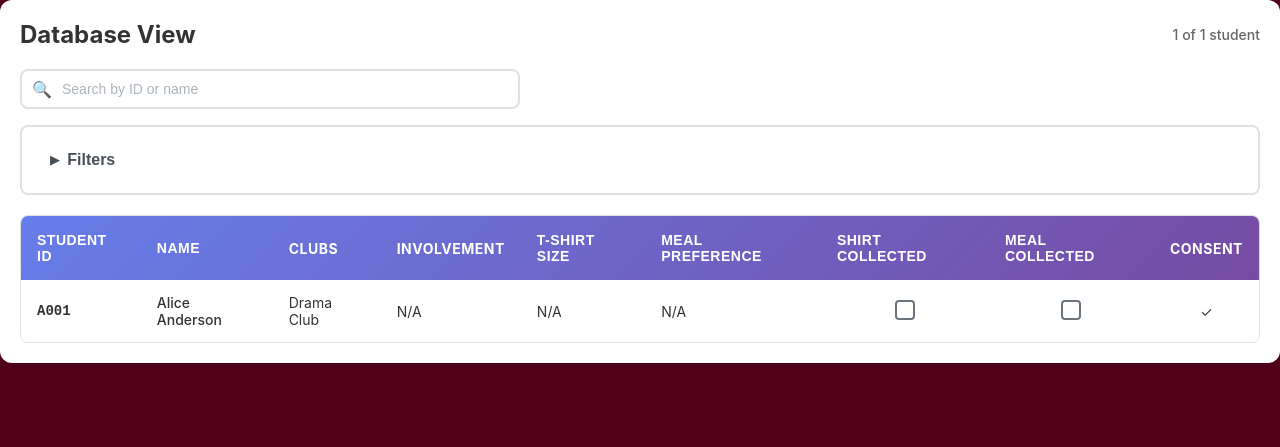
Scenario: Edge Cases › Student not found during update (Requirement 9.7) › should display error message when student is not found
Expected: the text "Alice Anderson" is shown, [141, 280, 273, 342]
// Try to update checkbox
Click the checkbox named "Shirt collected for A001": {"x": 905, "y": 310} [895, 300, 915, 320]
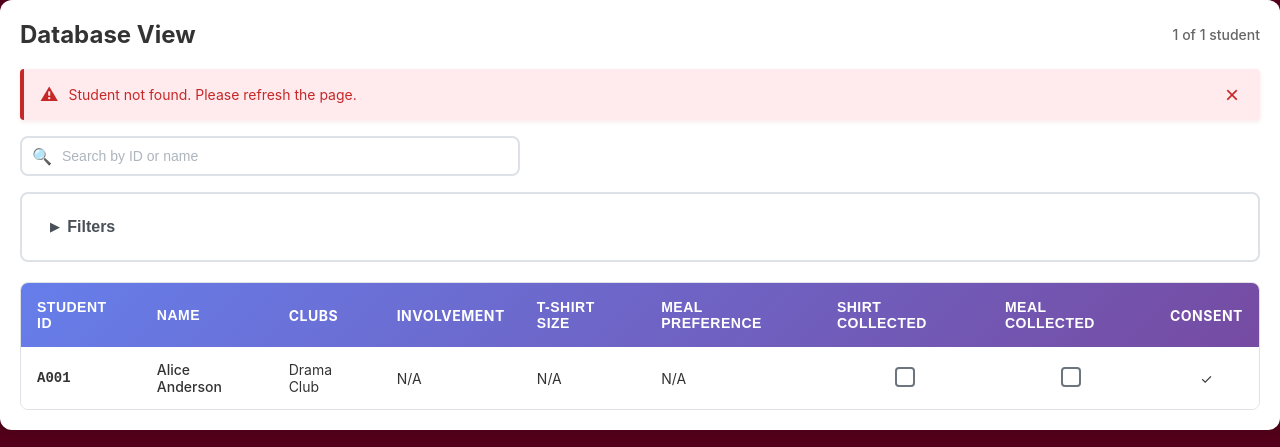
Expected: the checkbox named "Shirt collected for A001" is not checked, [895, 366, 915, 386]
Result: the text "Student not found. Please refresh the page." is shown at [68, 86, 357, 103]
